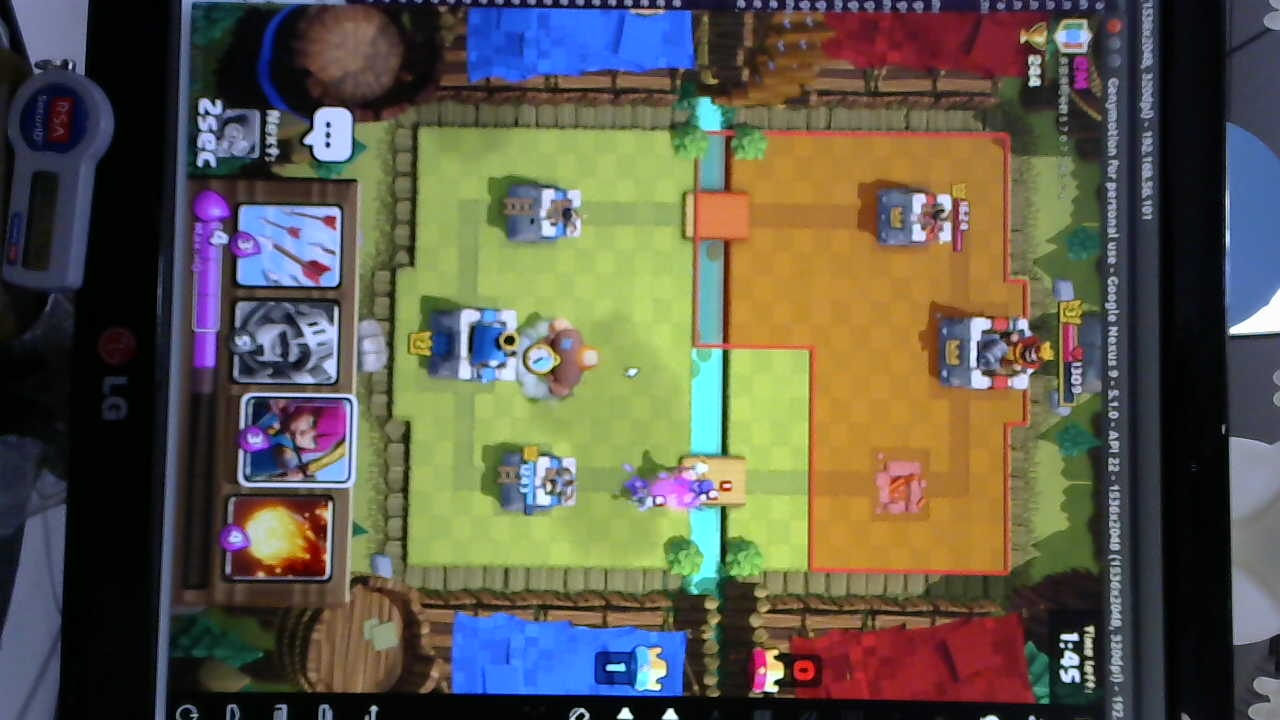giant: (522, 318, 594, 399)
